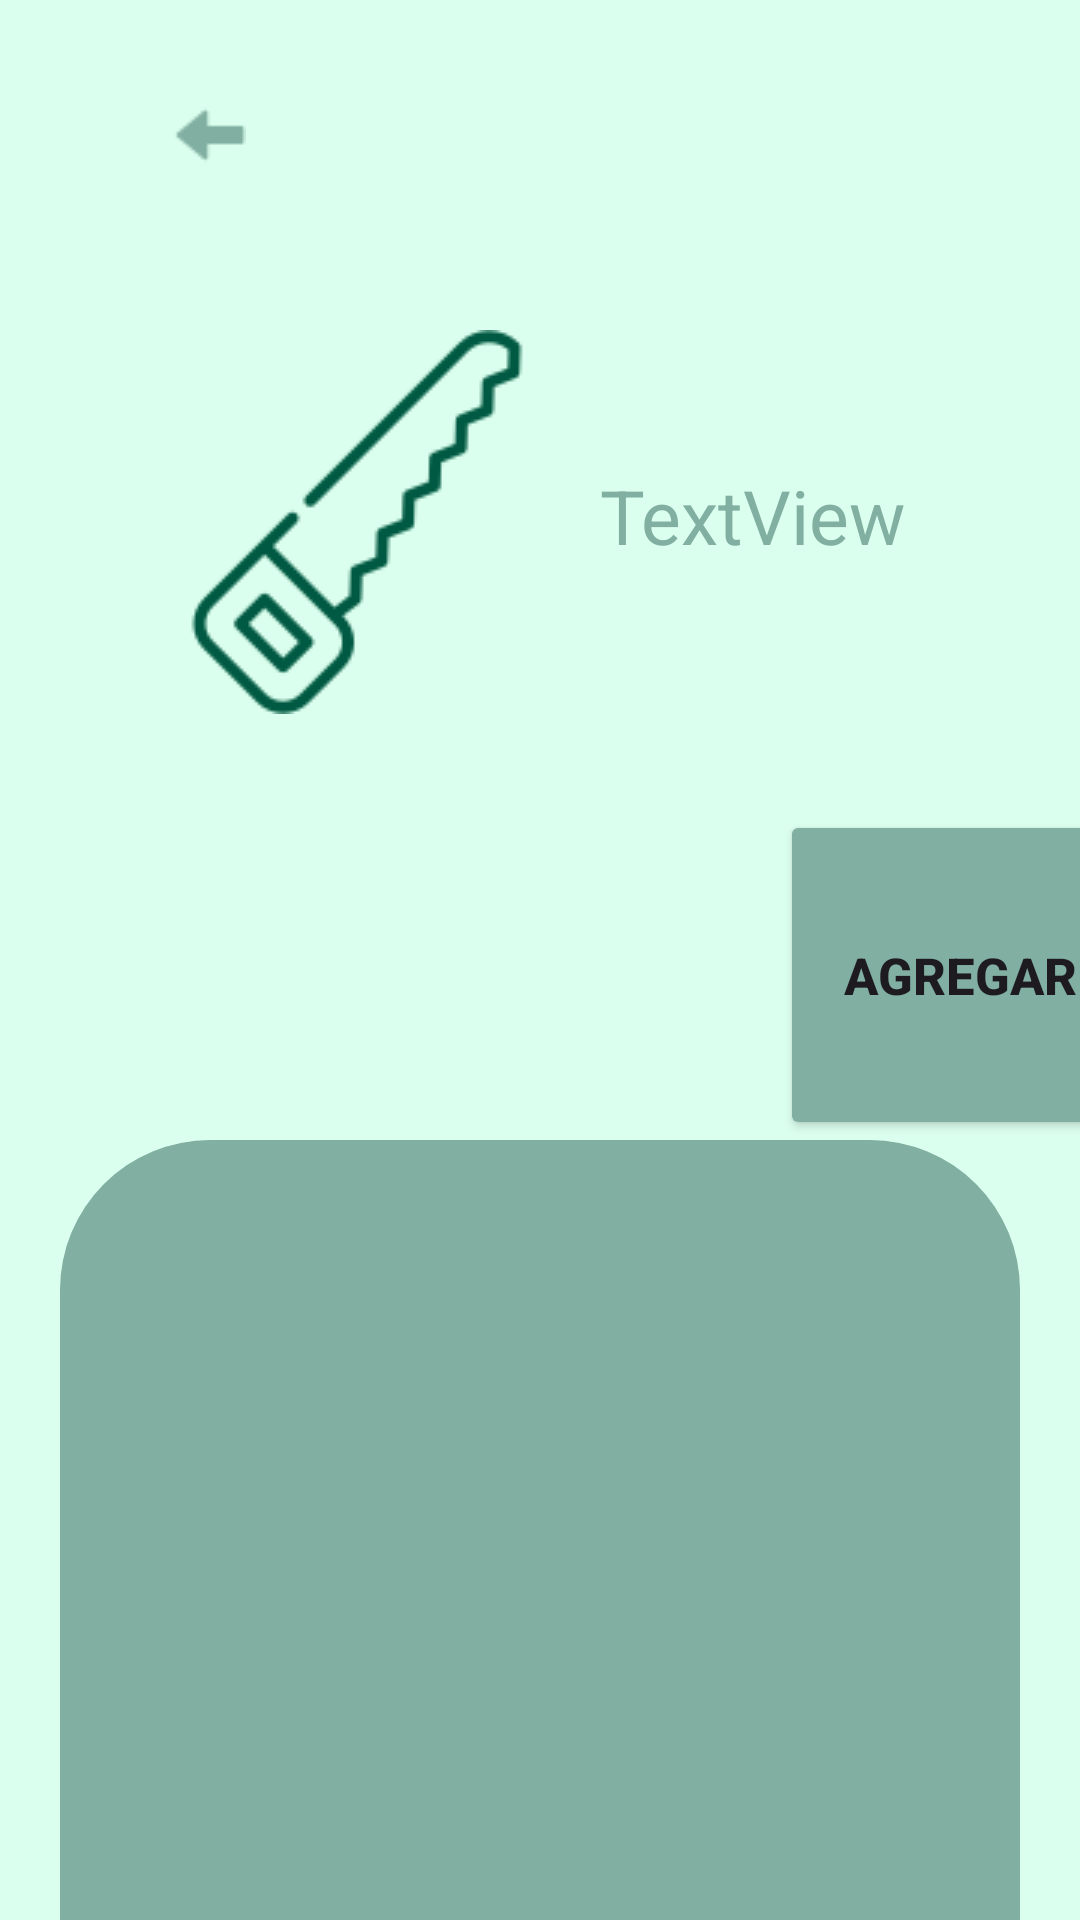

Where icons sit on this 1080 × 1920 app screen, as (x1, y1, x2, y2):
volver: (176, 110, 244, 160)
